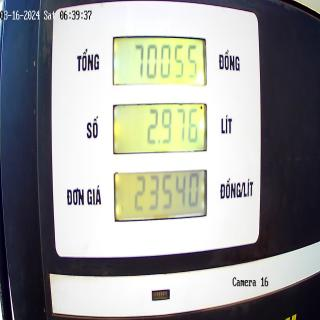screen: (112, 29, 209, 226)
